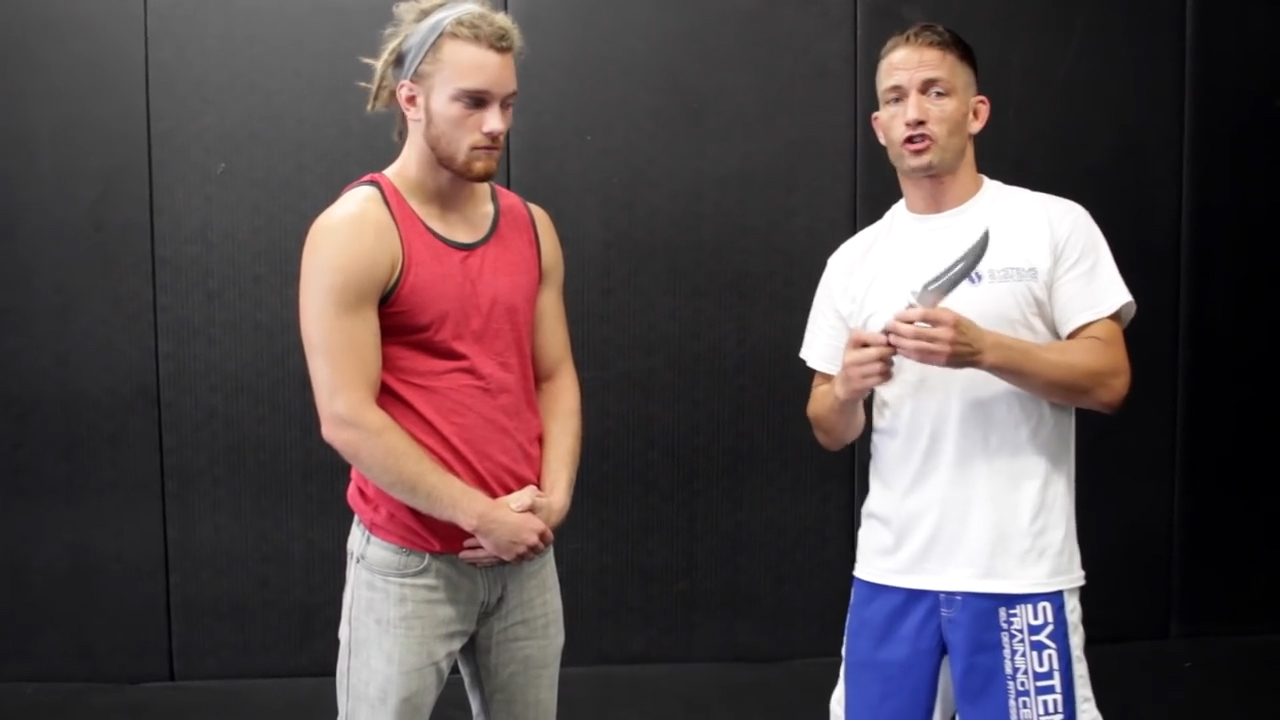knife: (843, 213, 1001, 381)
